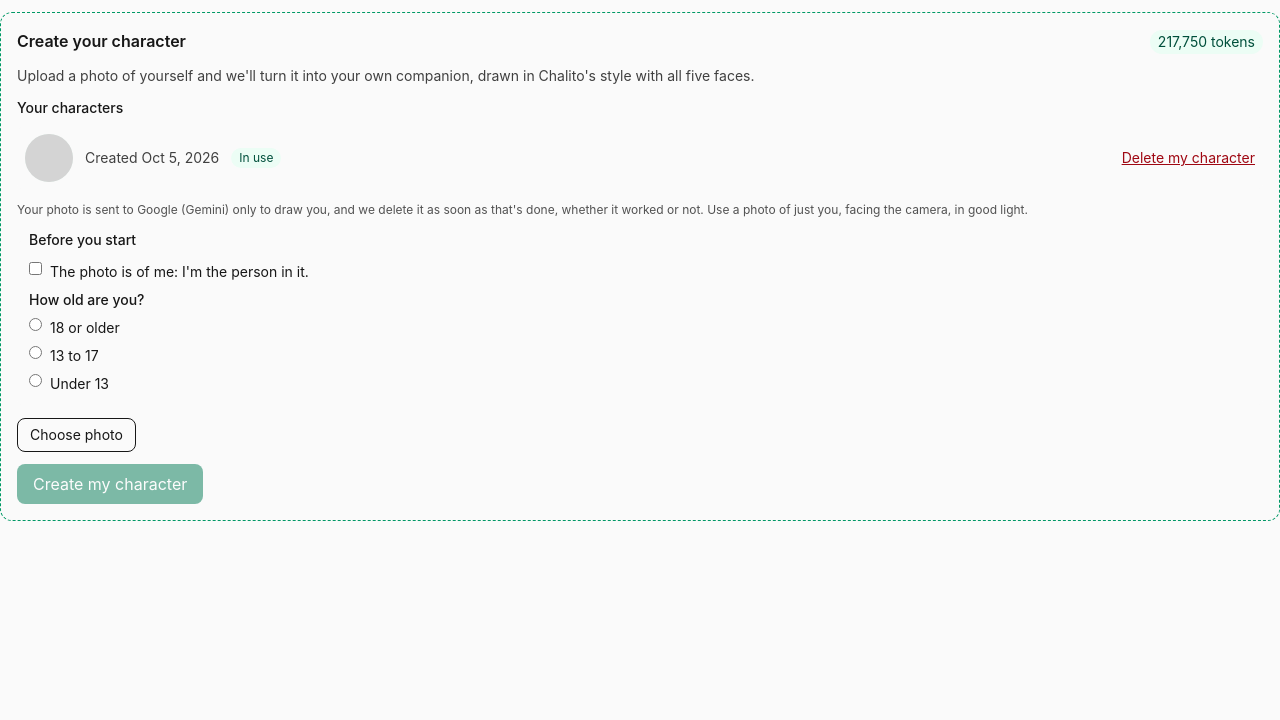
Eliminar mi personaje › English strings
What coordinates should you click on to do the following:
click the button "Delete my character"
I would click on:
 (1188, 158)
Its box is [1122,148,1255,168].
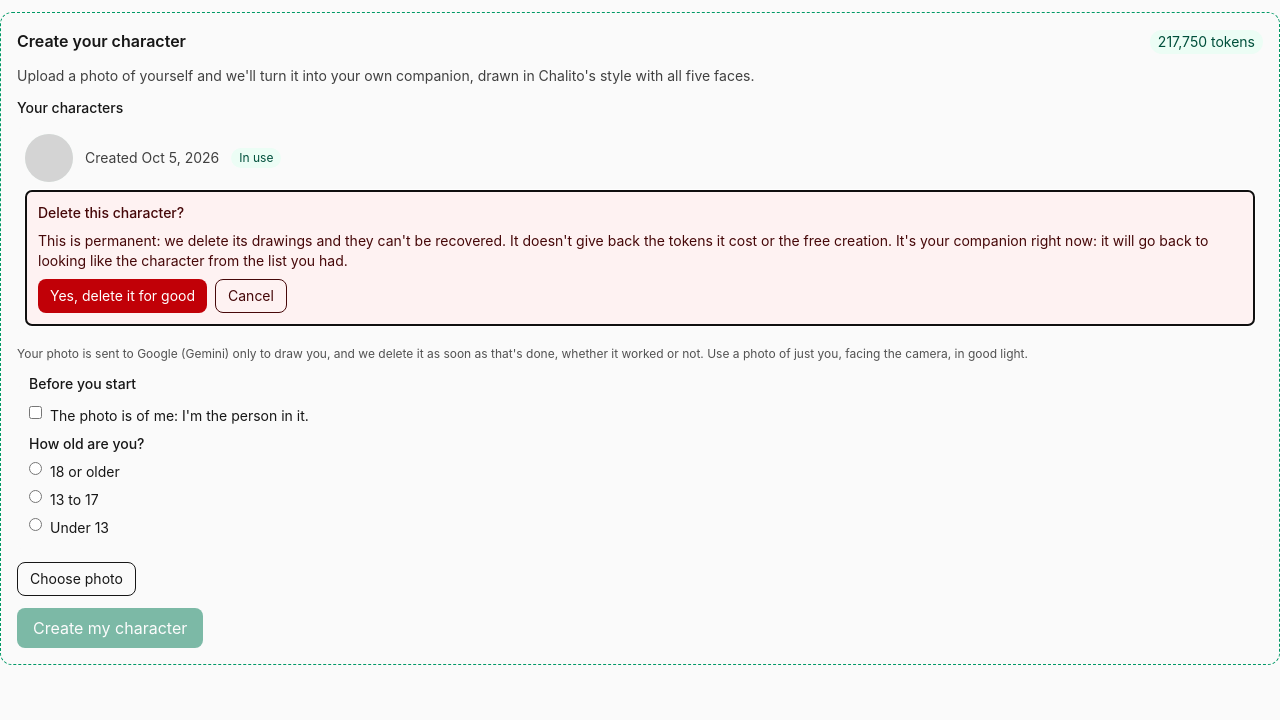
Check: the element with test id "kept-character-confirm" shows "It doesn't give back the tokens it cost or the free creation.", box [38,232,892,249]
